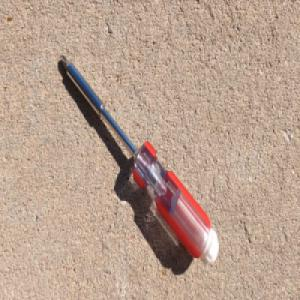Screwdriver: (59, 52, 219, 267)
